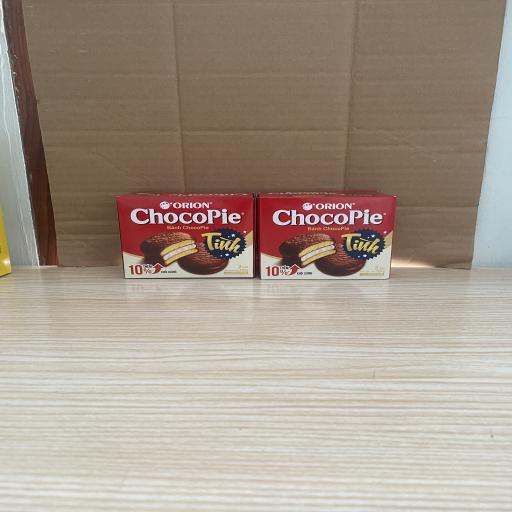chocopie: (257, 191, 396, 279), (116, 192, 256, 278)
